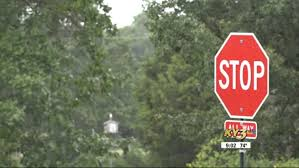stop: (213, 33, 270, 118), (222, 33, 270, 119), (214, 33, 270, 101), (213, 55, 269, 118)
